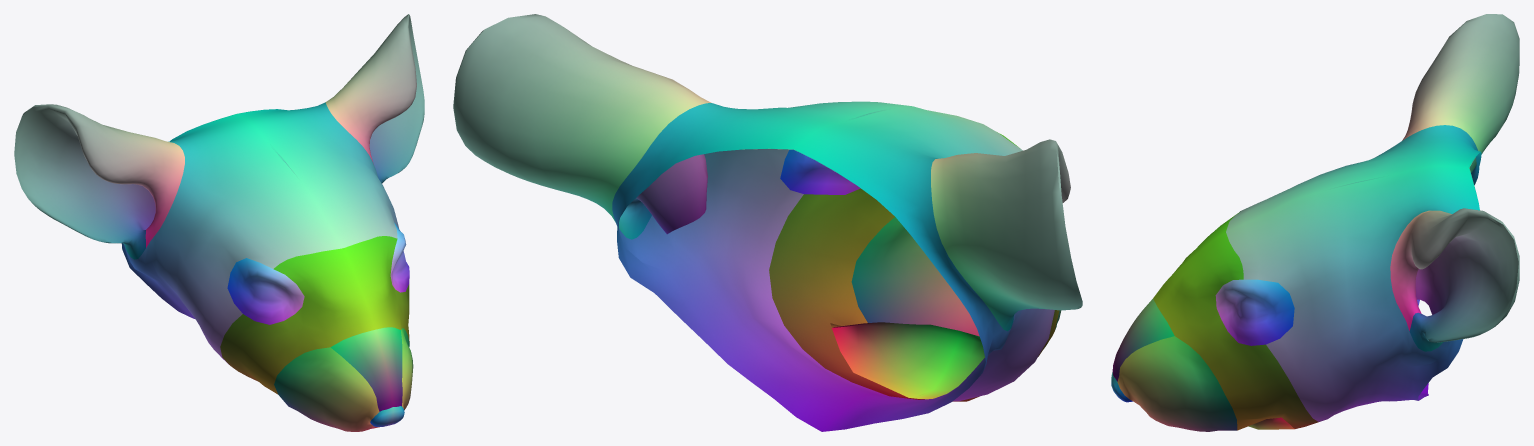
Rendered from face_merged_mirrored.obj.
3 views of the same model, side by side, from view 1: azimuth 30°, elevation 25°; view 2: azimuth 150°, elevation 25°; view 3: azimuth 270°, elevation 25° (orthographic). The views are drawn at different scales.
Parts seen in each view (by area): view 1: face_mesh_mirror_face_class_2.002; view 2: face_mesh_mirror_face_class_2.002; view 3: face_mesh_mirror_face_class_2.002.
Part boxes in pixels (x1,y1,x2,y2): face_mesh_mirror_face_class_2.002: (14, 14, 424, 431); face_mesh_mirror_face_class_2.002: (453, 14, 1082, 431); face_mesh_mirror_face_class_2.002: (1111, 14, 1519, 431).
Size of the model in its own units: 0.3077 by 0.1972 by 0.2362.
8 materials, 8 textured.
